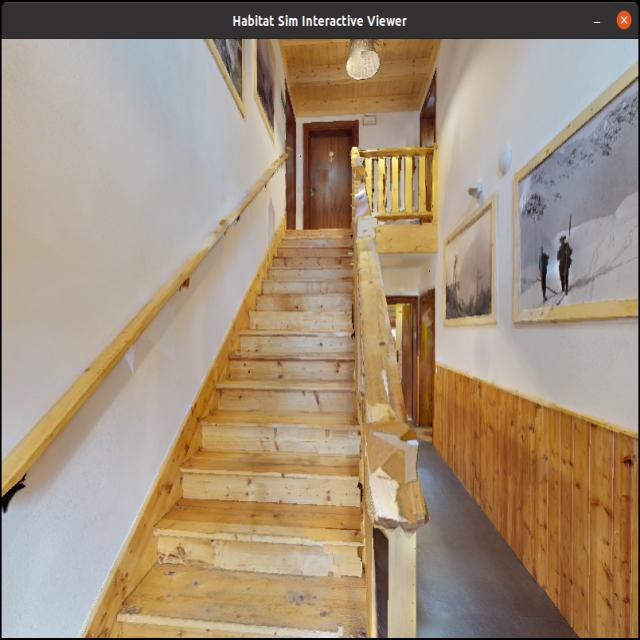stairs: (61, 110, 416, 640)
